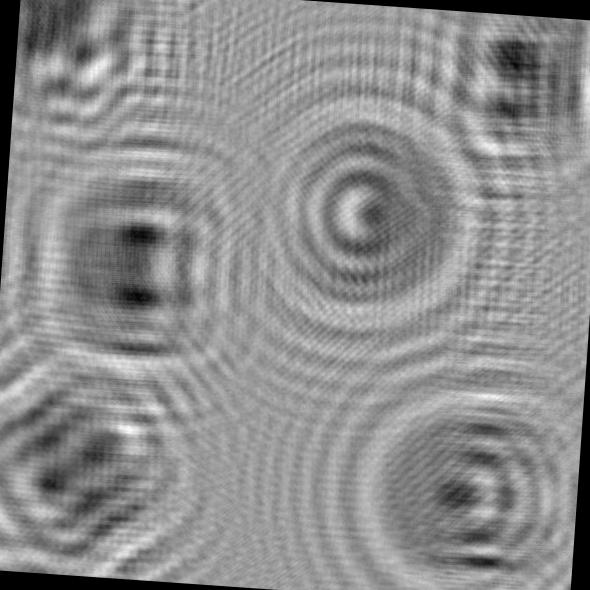C: (211, 41, 530, 360)
E: (0, 108, 281, 420)
F: (385, 6, 590, 223)
H: (0, 312, 238, 585)
K: (9, 0, 208, 170)
U: (323, 347, 586, 590)
